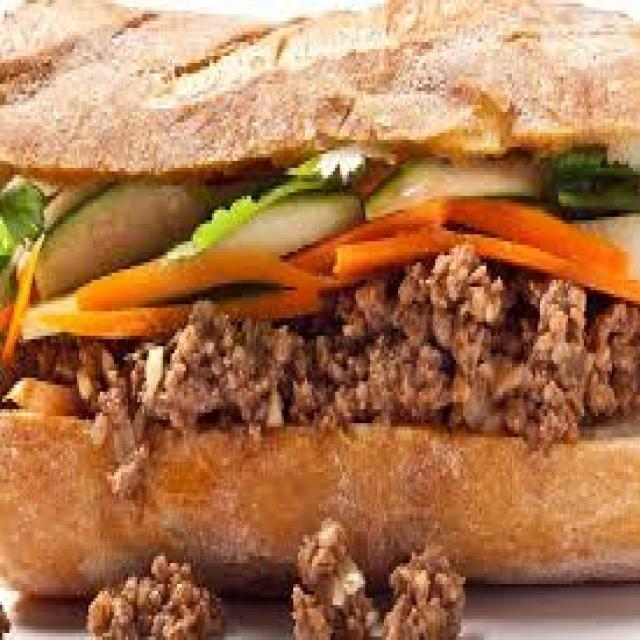BiologicalWaste: (2, 0, 640, 640)
